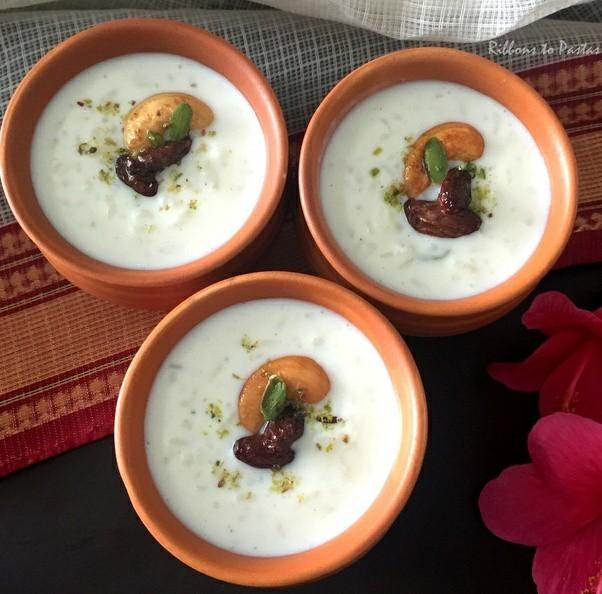Kheer: (142, 300, 395, 553), (35, 55, 266, 271), (323, 80, 548, 297)
